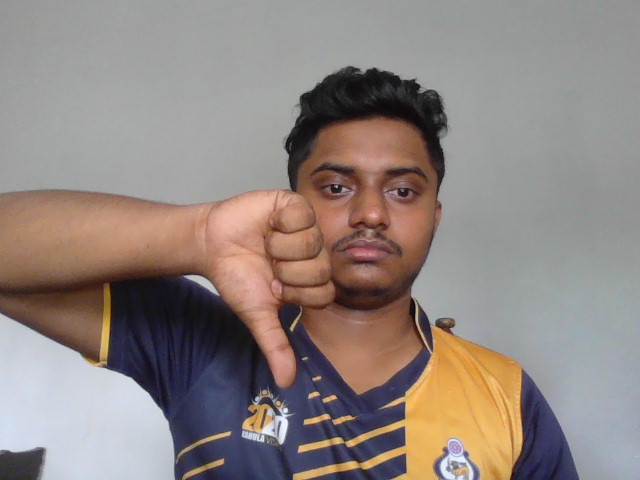Disagree: (204, 187, 339, 390)
